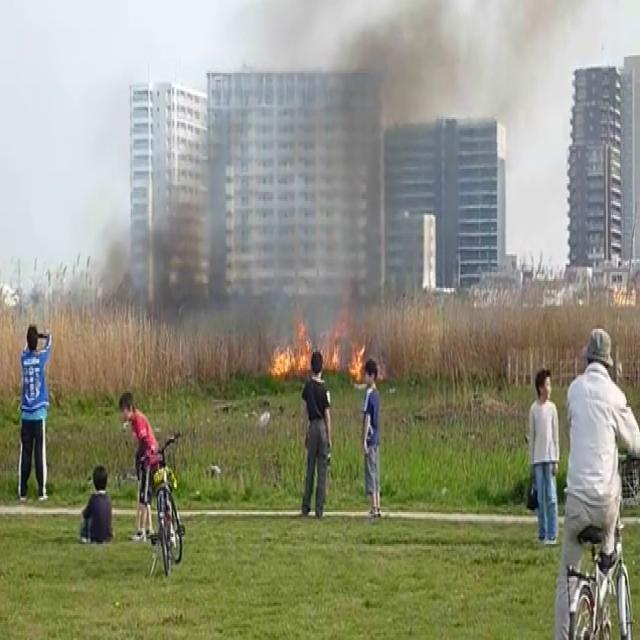Fire: (268, 314, 372, 385)
Smoke: (93, 0, 491, 317)
